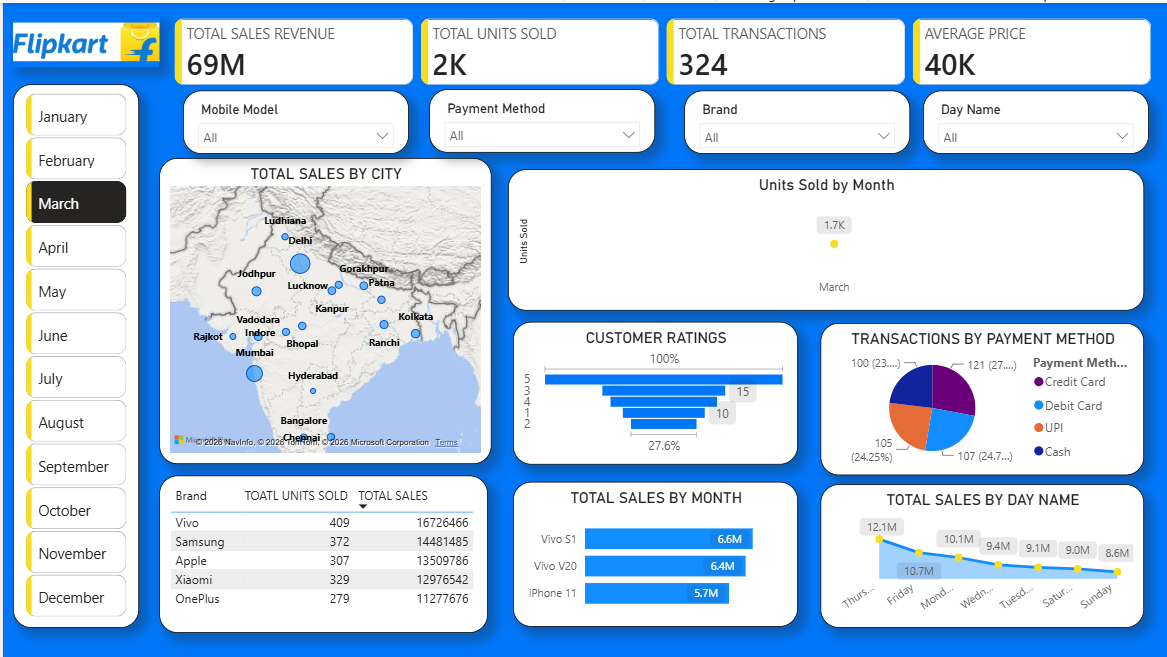

What the dashboard file says about the page in this screenshot:
{"tool":"powerbi","page":{"name":"Page 1","canvas":[1280,720],"ordinal":0},"visuals":[{"type":"image","box":[11,15.1,160.5,54.9],"z":0},{"type":"shape","box":[11,89.2,138.6,596.9],"z":1000},{"type":"advancedSlicerVisual","fields":{"Values":["mobile_sales_data.Date.Variation.Date Hierarchy.Month"]},"box":[20.6,94.7,120.8,585.9],"z":2000},{"type":"cardVisual","fields":{"Data":["mobile_sales_data.total_sales","mobile_sales_data.total_units_sold","mobile_sales_data.transactions","mobile_sales_data.Average_price"]},"box":[171.5,0,1108.8,107],"z":3000},{"type":"map","title":"TOTAL SALES BY CITY","fields":{"Category":["mobile_sales_data.City"],"Size":["mobile_sales_data.total_sales"]},"box":[171.5,170.2,365,336.2],"z":4000},{"type":"lineChart","fields":{"Y":["mobile_sales_data.total_units_sold"],"Category":["mobile_sales_data.Date.Variation.Date Hierarchy.Month","mobile_sales_data.Date.Variation.Date Hierarchy.Day"]},"box":[548.9,183.9,698.5,155.1],"z":5000},{"type":"clusteredBarChart","title":"TOTAL SALES BY MONTH","fields":{"Category":["mobile_sales_data.Mobile Model"],"Y":["mobile_sales_data.total_sales"]},"box":[559.9,525.6,312.9,159.2],"z":6000},{"type":"pieChart","title":"TRANSACTIONS BY PAYMENT METHOD","fields":{"Y":["mobile_sales_data.total_units_sold"],"Category":["mobile_sales_data.Payment Method"]},"box":[897.4,351.3,355.4,167.4],"z":7000},{"type":"funnel","title":"CUSTOMER RATINGS","fields":{"Category":["mobile_sales_data.Customer Ratings"],"Y":["CountNonNull(mobile_sales_data.Customer Ratings)"]},"box":[559.9,349.9,312.9,156.4],"z":8000},{"type":"areaChart","title":"TOTAL SALES BY DAY NAME","fields":{"Y":["mobile_sales_data.total_sales"],"Category":["mobile_sales_data.Day Name"]},"box":[897.4,528.3,355.4,157.8],"z":9000},{"type":"tableEx","fields":{"Values":["mobile_sales_data.Brand","mobile_sales_data.total_units_sold","mobile_sales_data.total_sales"]},"box":[171.5,518.7,360.9,172.9],"z":10000},{"type":"slicer","fields":{"Values":["mobile_sales_data.Mobile Model"]},"box":[197.6,96.1,248.4,70],"z":11000},{"type":"slicer","fields":{"Values":["mobile_sales_data.Payment Method"]},"box":[467.9,94.7,248.4,70],"z":12000},{"type":"slicer","fields":{"Values":["mobile_sales_data.Brand"]},"box":[747.9,96.1,248.4,70],"z":13000},{"type":"slicer","fields":{"Values":["mobile_sales_data.Day Name"]},"box":[1010,96.1,248.4,70],"z":14000}]}

Visuals, with their boxes in screenshot pixels (x1, y1, x2, y2), scaled from the page's 1280x720 canvas onto the 1167x657 screenshot:
image: <bbox>10, 14, 156, 64</bbox>
shape: <bbox>10, 81, 136, 626</bbox>
advancedSlicerVisual - mobile_sales_data.Date.Variation.Date Hierarchy.Month: <bbox>19, 86, 129, 621</bbox>
cardVisual - mobile_sales_data.total_sales x mobile_sales_data.total_units_sold: <bbox>156, 0, 1166, 98</bbox>
"TOTAL SALES BY CITY" map: <bbox>156, 155, 489, 462</bbox>
lineChart - mobile_sales_data.total_units_sold x mobile_sales_data.Date.Variation.Date Hierarchy.Month: <bbox>500, 168, 1137, 309</bbox>
"TOTAL SALES BY MONTH" clusteredBarChart: <bbox>510, 480, 796, 625</bbox>
"TRANSACTIONS BY PAYMENT METHOD" pieChart: <bbox>818, 321, 1142, 473</bbox>
"CUSTOMER RATINGS" funnel: <bbox>510, 319, 796, 462</bbox>
"TOTAL SALES BY DAY NAME" areaChart: <bbox>818, 482, 1142, 626</bbox>
tableEx - mobile_sales_data.Brand x mobile_sales_data.total_units_sold: <bbox>156, 473, 485, 631</bbox>
slicer - mobile_sales_data.Mobile Model: <bbox>180, 88, 407, 152</bbox>
slicer - mobile_sales_data.Payment Method: <bbox>427, 86, 653, 150</bbox>
slicer - mobile_sales_data.Brand: <bbox>682, 88, 908, 152</bbox>
slicer - mobile_sales_data.Day Name: <bbox>921, 88, 1147, 152</bbox>
